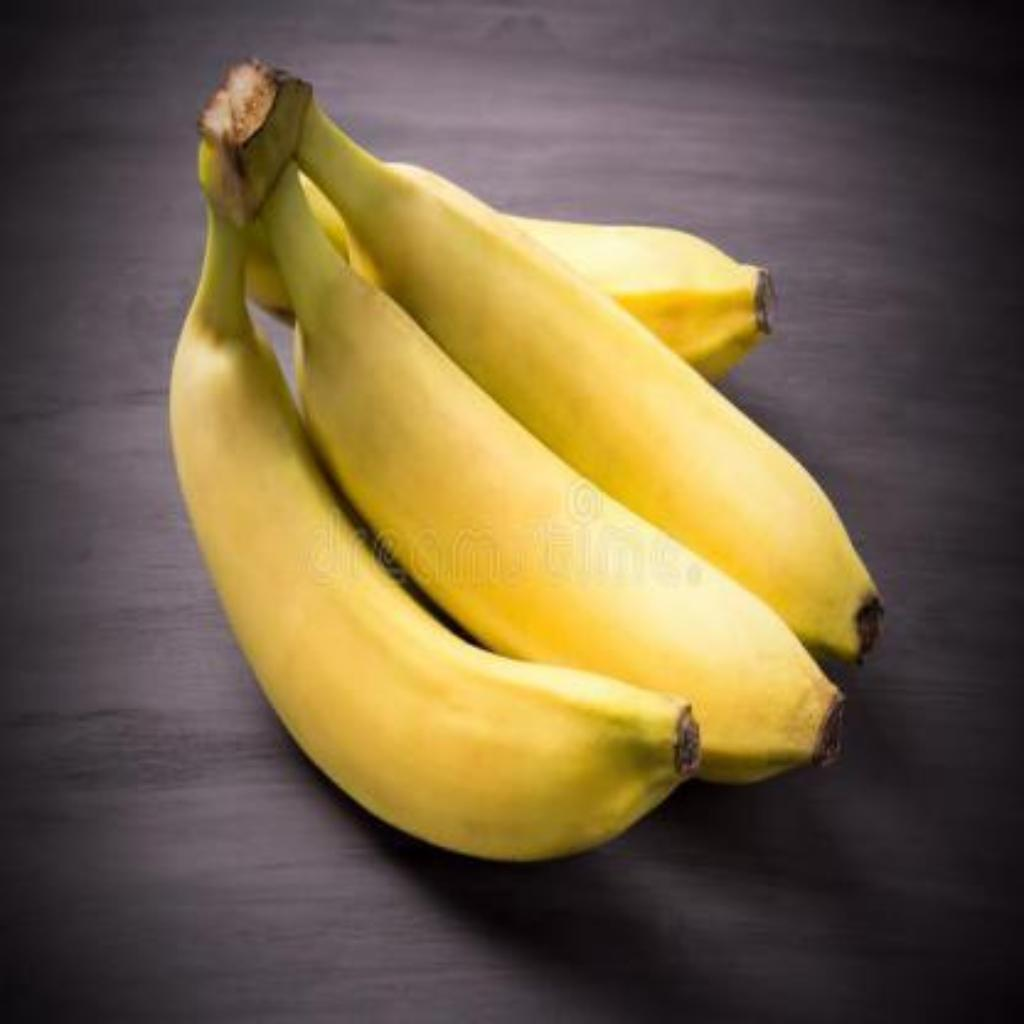banana: (170, 74, 704, 869), (249, 143, 869, 790), (507, 219, 775, 386)
